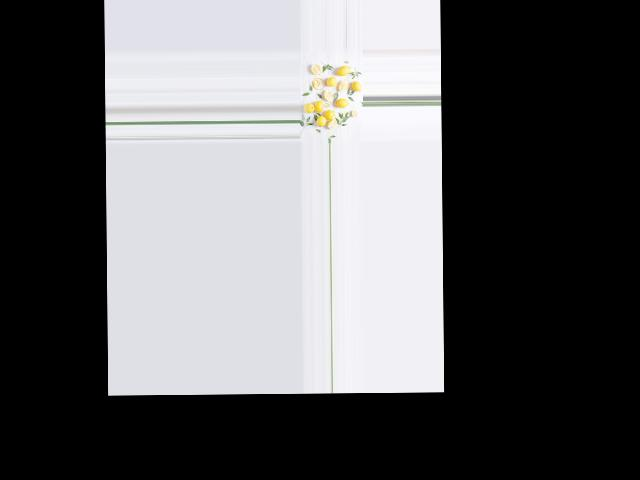lemon: (304, 100, 315, 114)
